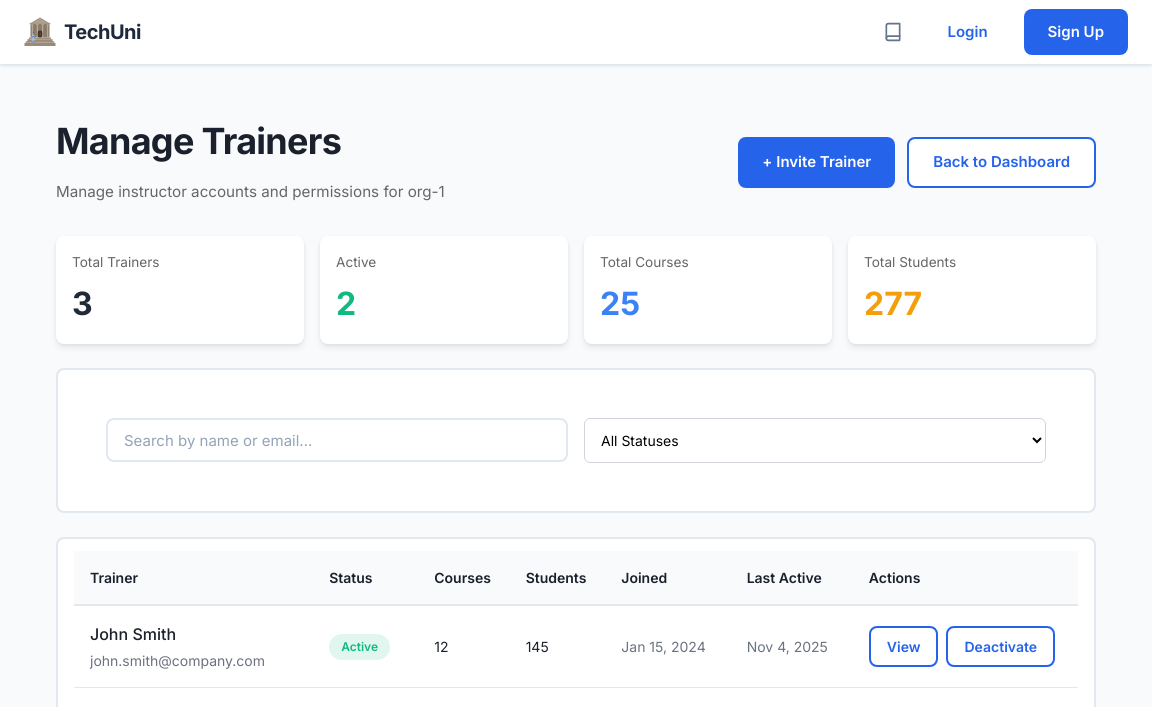
Test: ManageTrainers Component › Invite Trainer › opens invite modal when button is clicked
Click the button "+ Invite Trainer" at (817, 162), box [738,137,895,188]
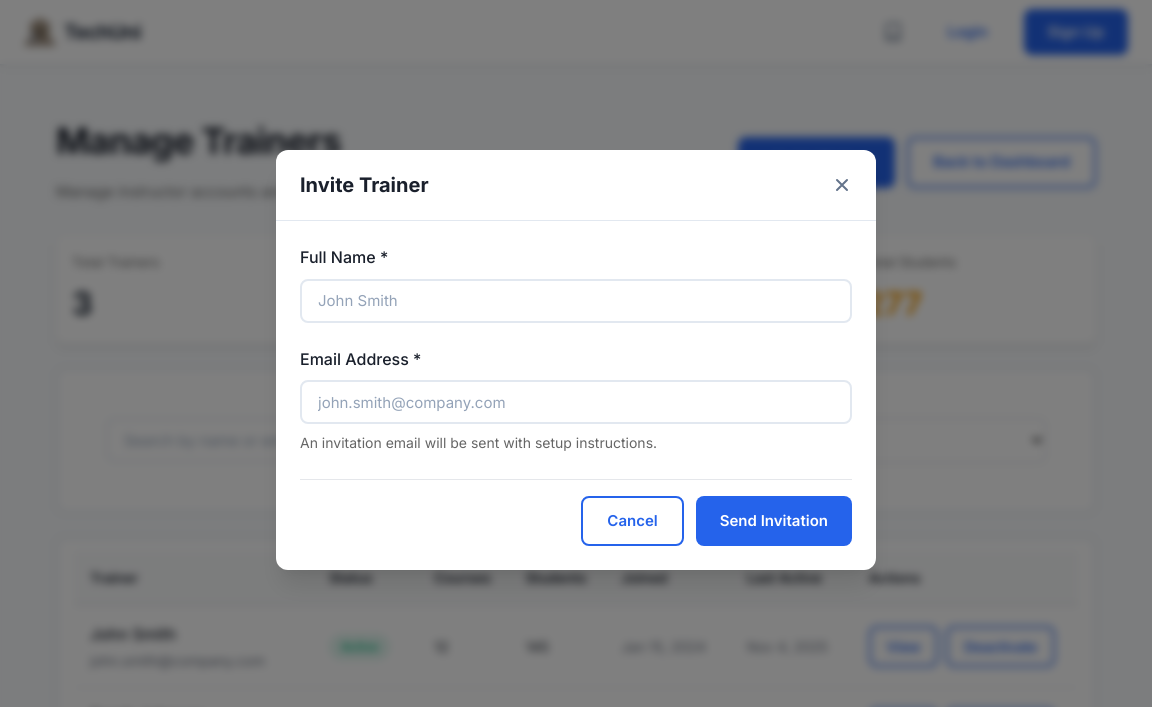
Now the heading "Invite Trainer" is shown, box [300,170,428,200]
